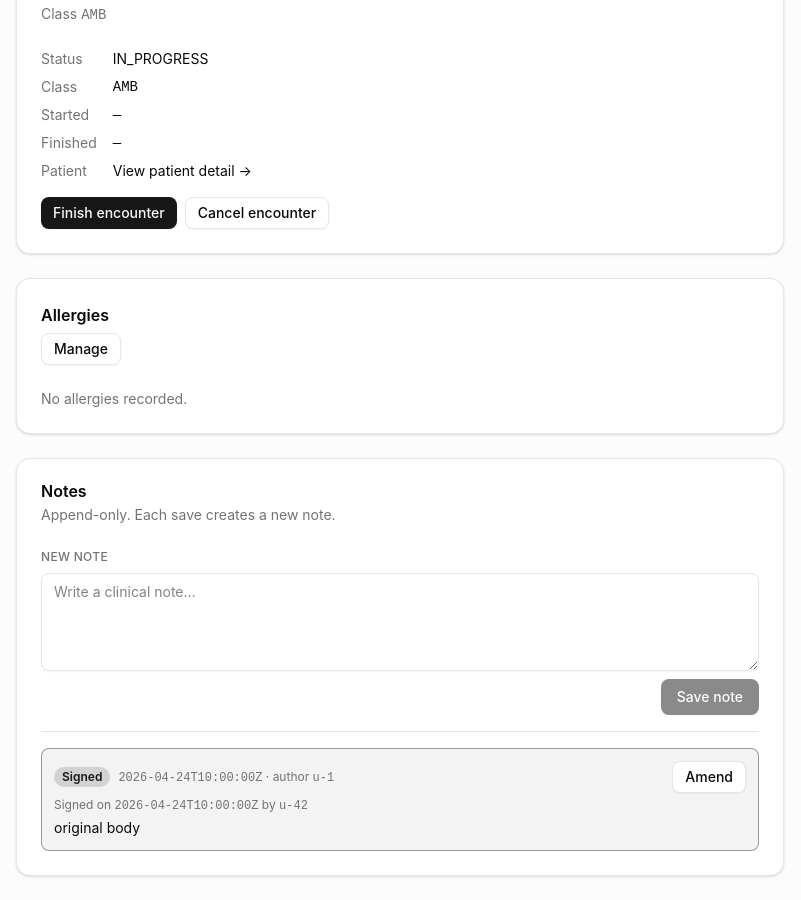
it: <EncounterDetailPage /> › handles 409 cannot_amend_unsigned_note with a user-facing message
The width and height of the screenshot is (801, 900).
(page scrolled)
Check: the list with test id "notes-list" is shown, box x1=41 y1=748 x2=759 y2=851
Click the button with test id "amend-note-button".
click(709, 777)  # box x1=672 y1=761 x2=746 y2=793
(page scrolled)
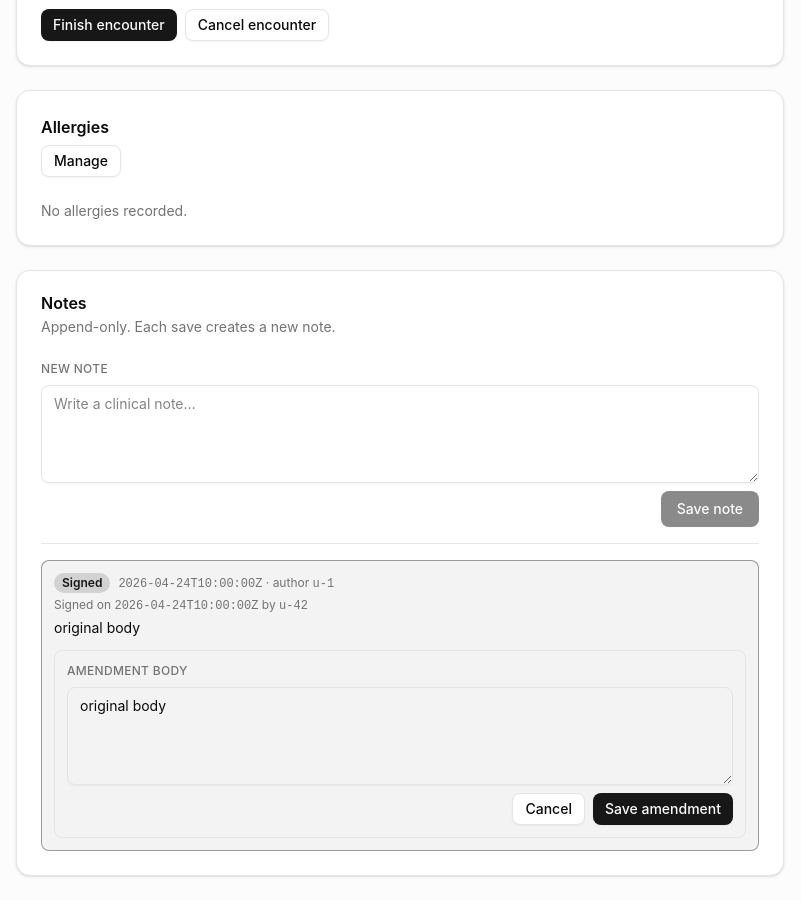
Replace the text in the text box with test id "amend-note-textarea" with "Attempted amendment" at (400, 736), box x1=67 y1=687 x2=733 y2=785
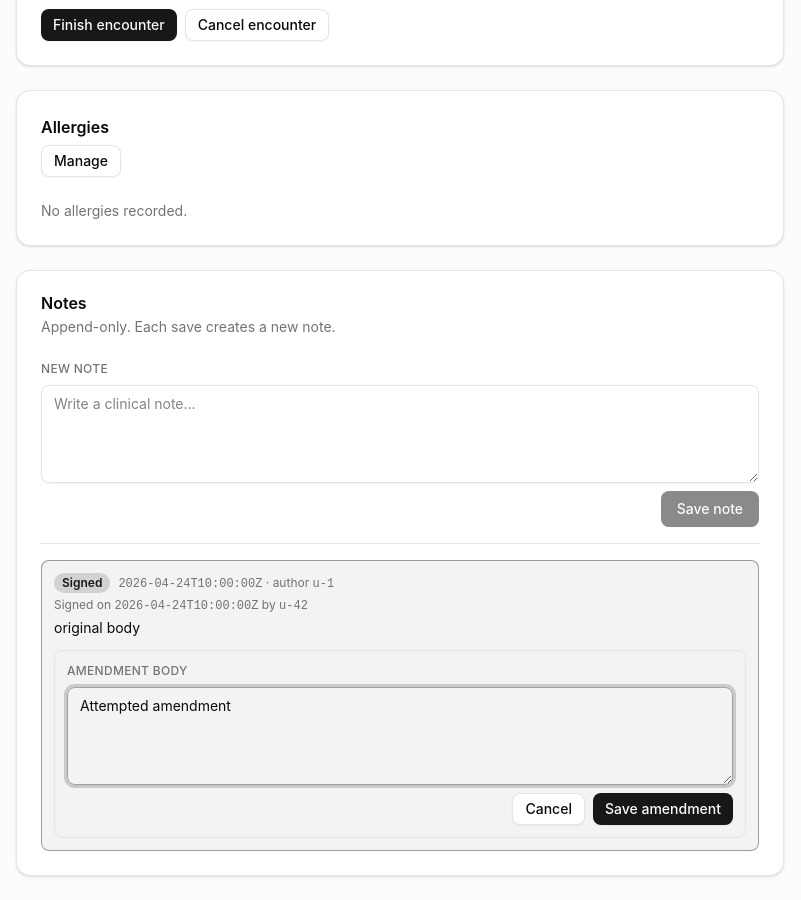
Click the button with test id "amend-save-button".
click(663, 809)  # box x1=593 y1=793 x2=733 y2=825
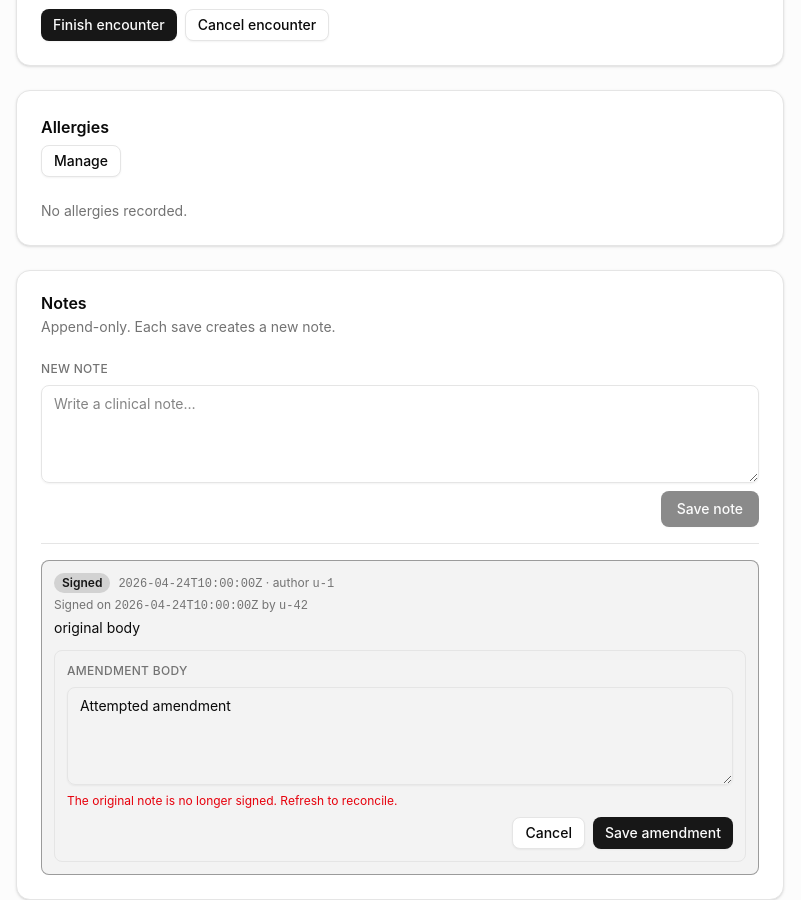
Check: the message with test id "amend-note-error" reads "The original note is no longer signed. Refresh to reconcile.", box x1=67 y1=793 x2=397 y2=808
